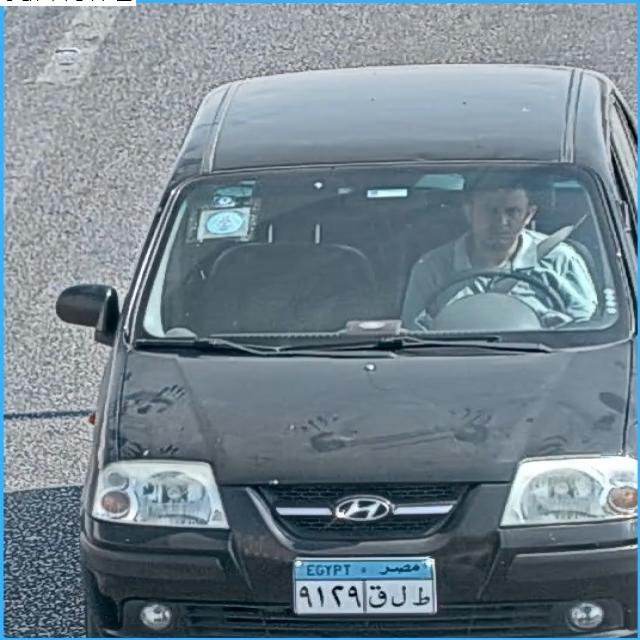windshield: (124, 165, 627, 336)
